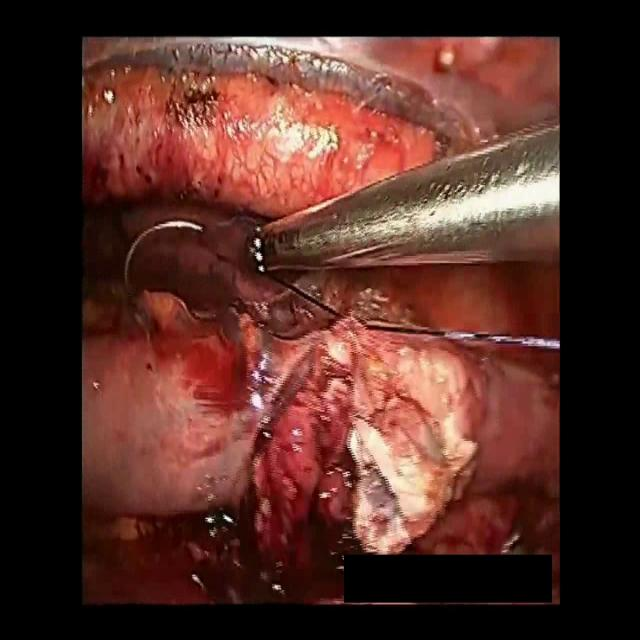surgical-area: (82, 36, 561, 604)
surgical-tool: (238, 114, 558, 273)
